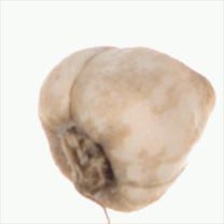L3: (97, 43, 162, 53)
L4: (38, 47, 216, 212)
